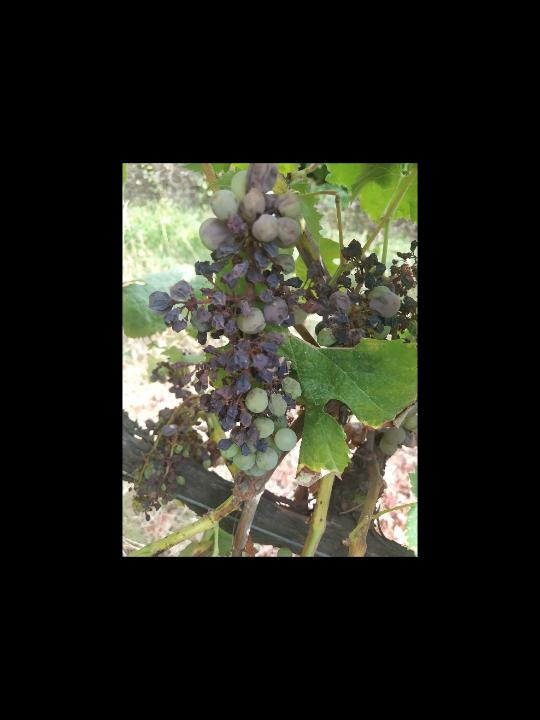grape: (147, 163, 311, 479), (299, 237, 418, 350)
